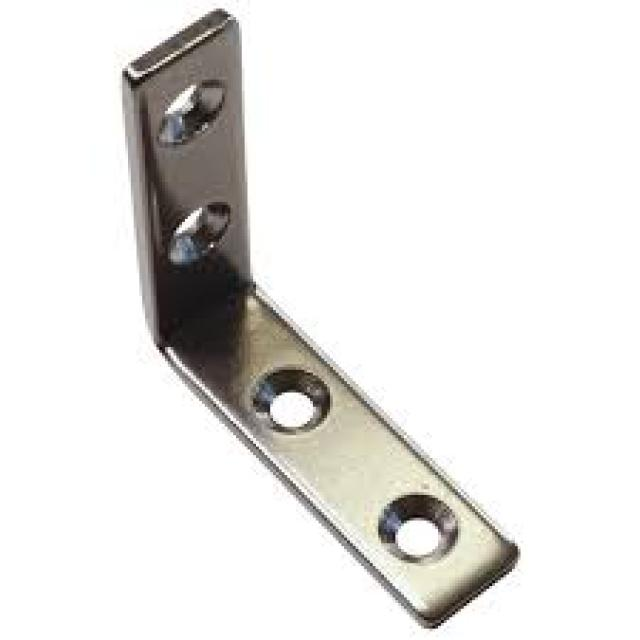holes: (375, 489, 458, 563), (160, 190, 237, 267), (156, 80, 235, 153), (247, 364, 330, 432)
